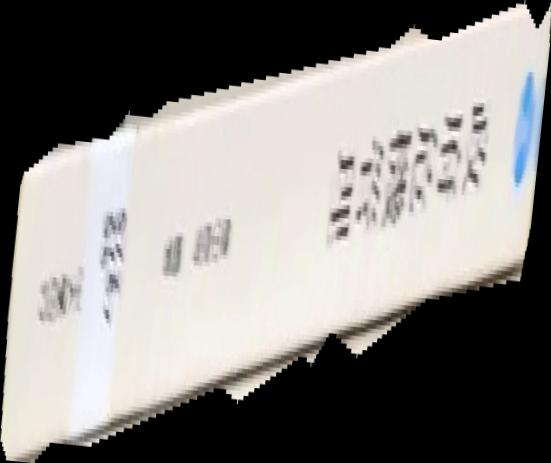flat: (1, 1, 551, 463)
